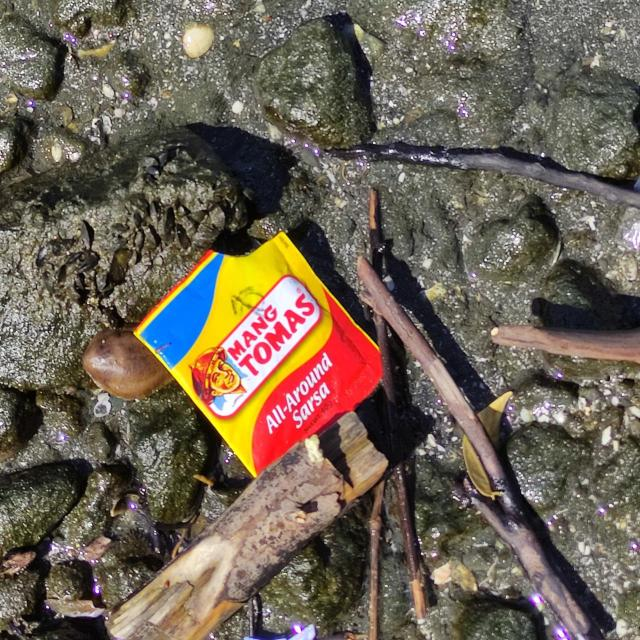plastic_waste: (132, 234, 383, 484)
